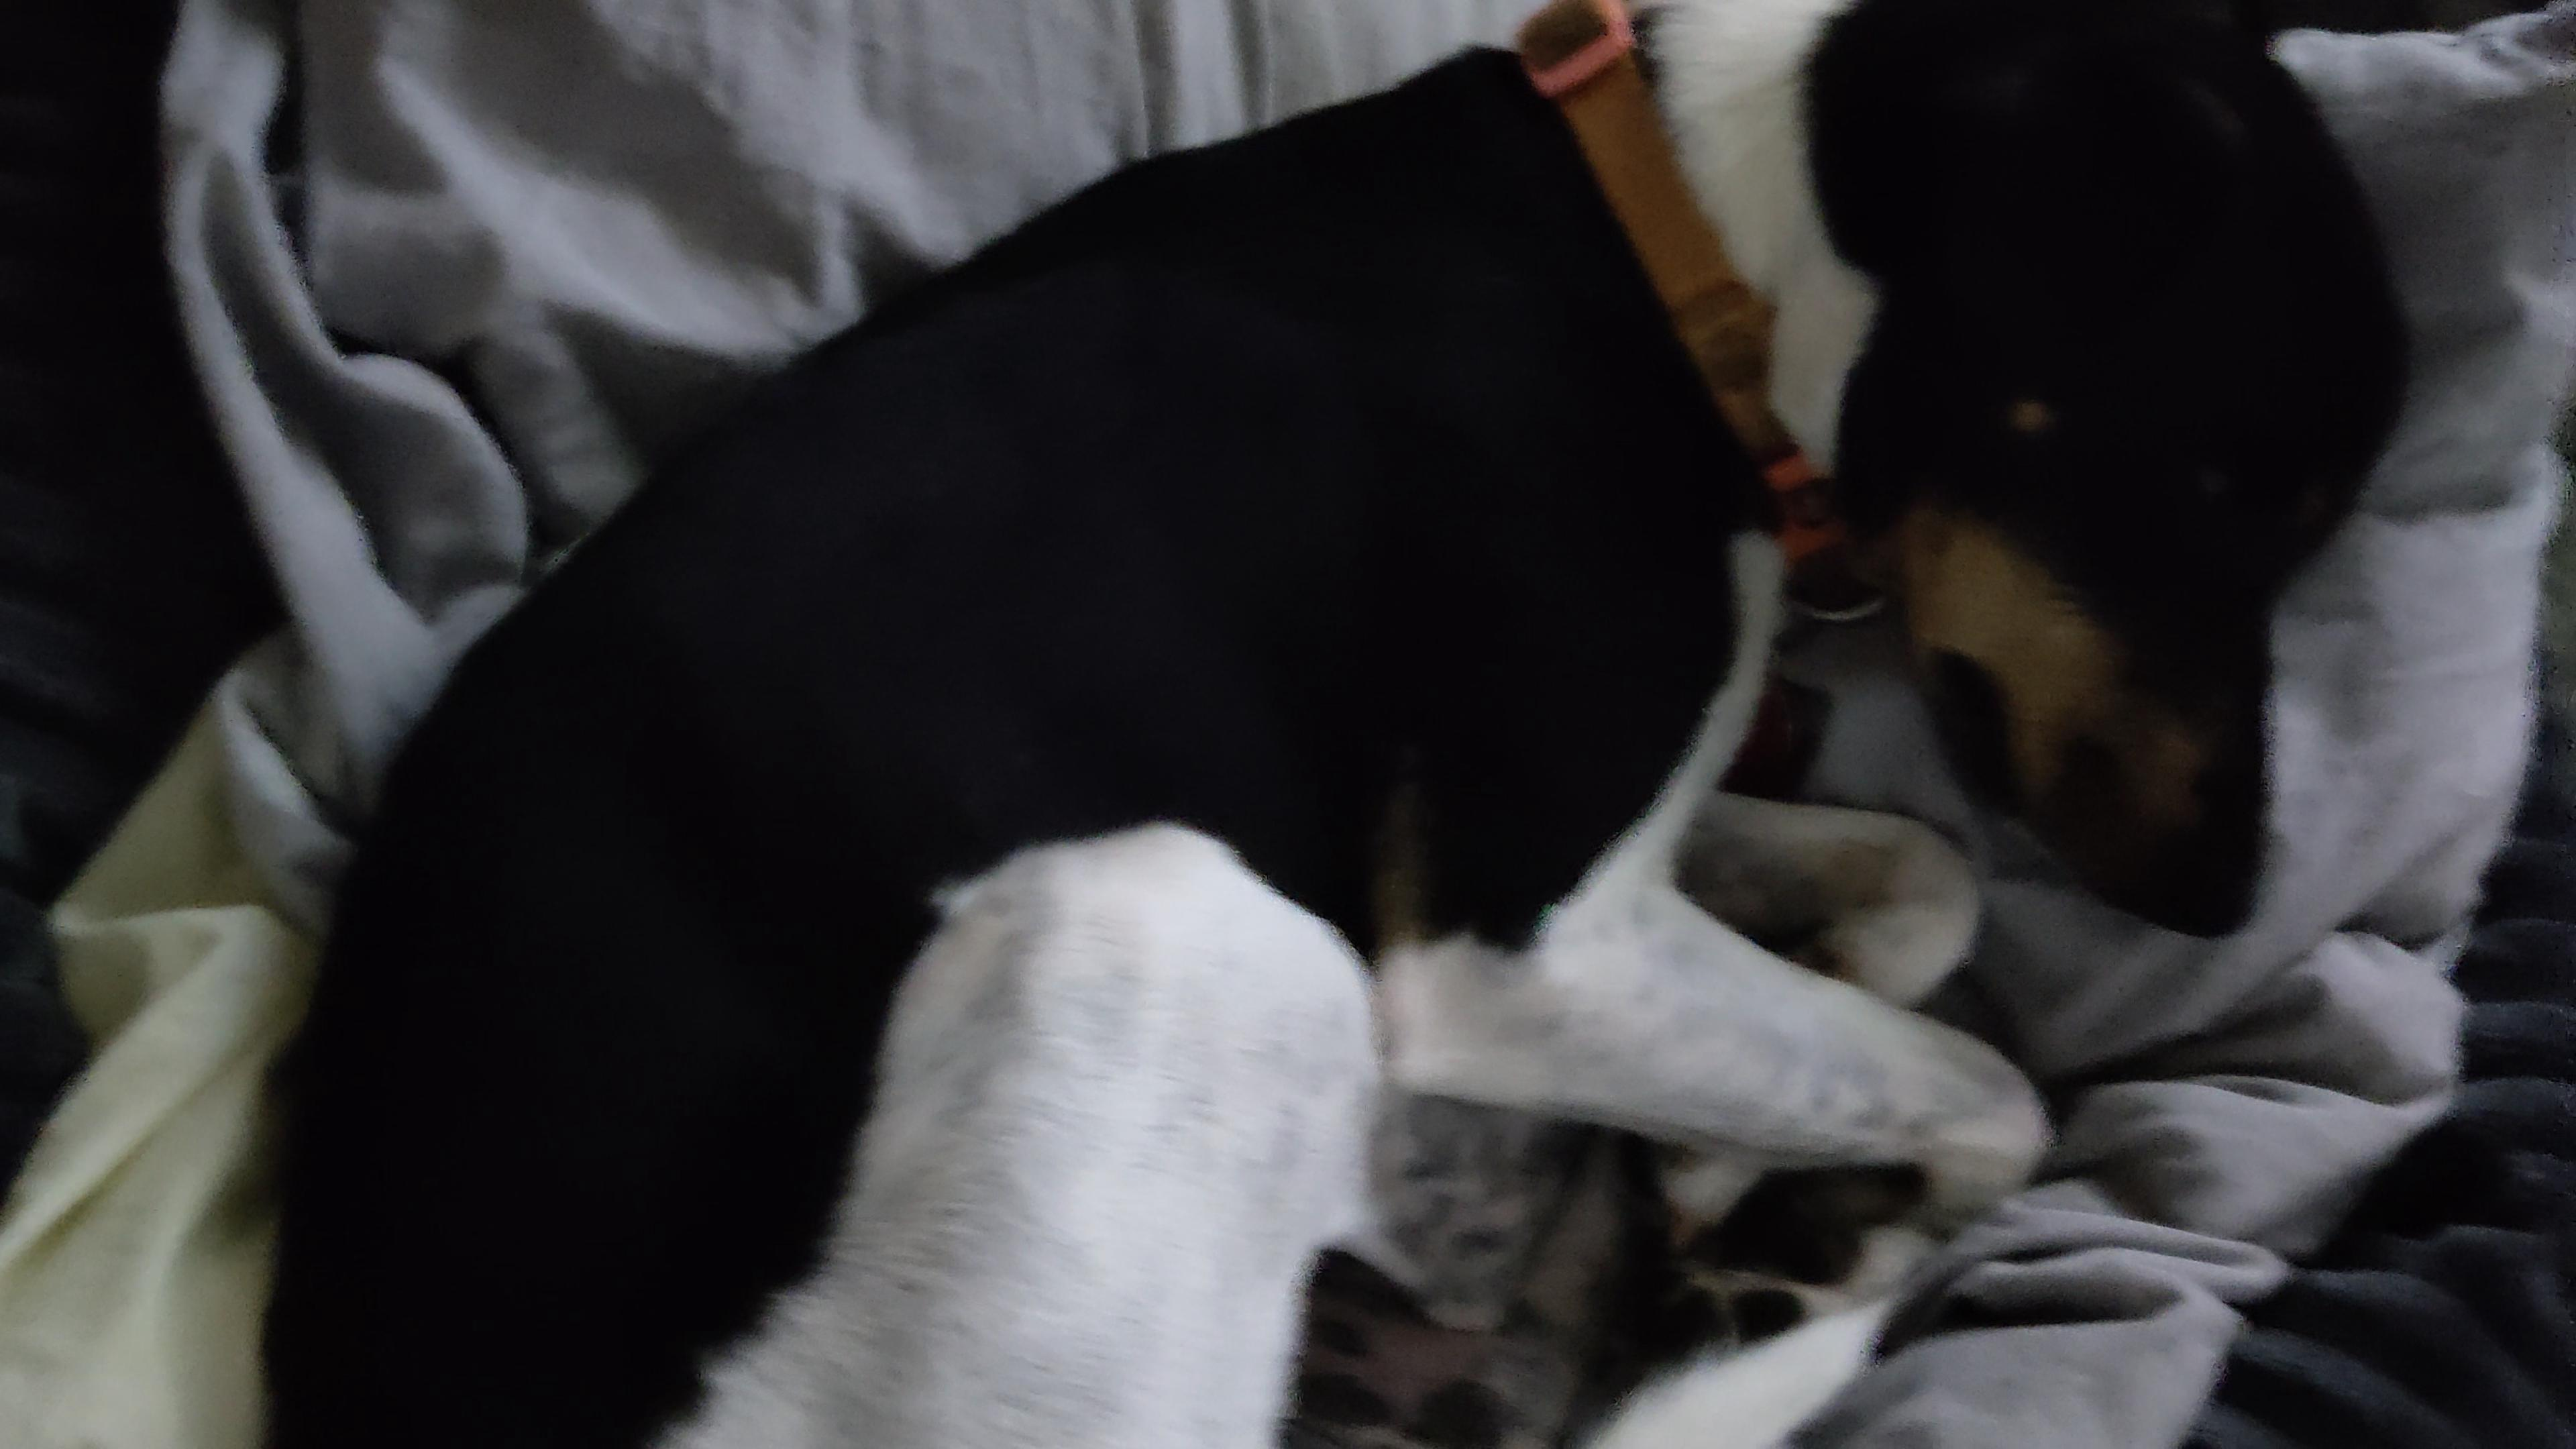Dog: (211, 0, 2442, 1449)
